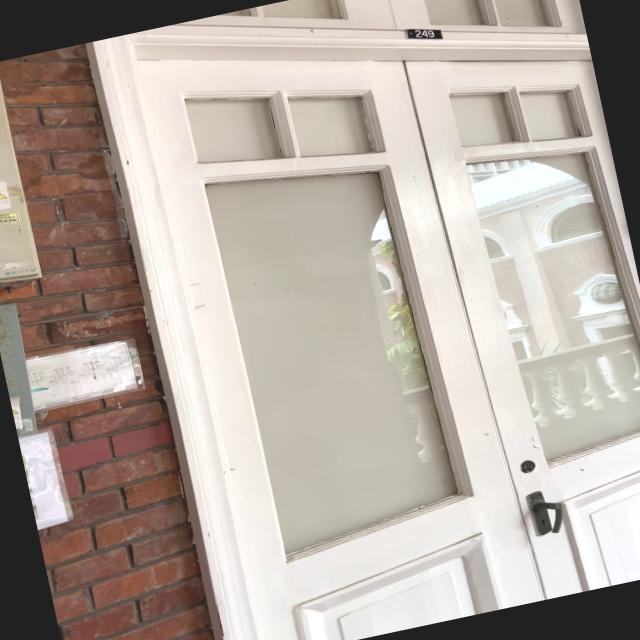room249: (399, 18, 448, 51)
